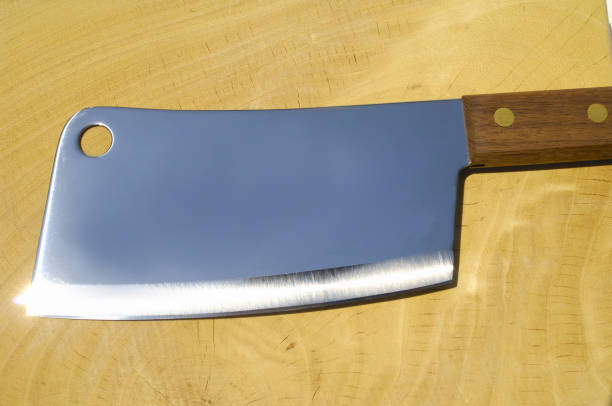knife: (22, 85, 612, 318)
